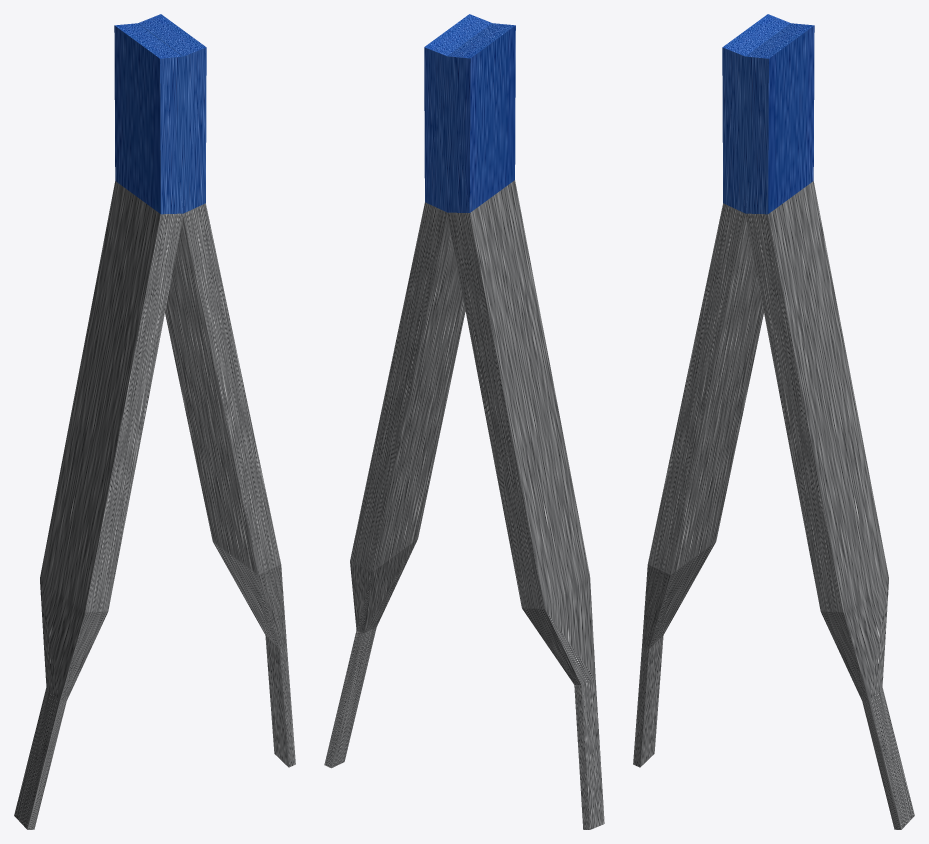
Rendered from pinzasAlgodon.fbx.
The picture shows the model from 3 angles, left to right: view 1: azimuth 30°, elevation 25°; view 2: azimuth 150°, elevation 25°; view 3: azimuth 330°, elevation 25°; orthographic projection.
Parts seen in each view (by area): view 1: Cube.002, Cube.001; view 2: Cube.002, Cube.001; view 3: Cube.001, Cube.002.
Boxes of the visible parts, box(x1,y1,x2,y2) form: Cube.002: box(14, 23, 183, 829); Cube.001: box(138, 14, 295, 767); Cube.002: box(447, 23, 604, 829); Cube.001: box(324, 14, 492, 768); Cube.001: box(745, 23, 914, 829); Cube.002: box(633, 14, 790, 767).
Size of the model in its own units: 362 by 981 by 106.
4 materials, 4 textured.
